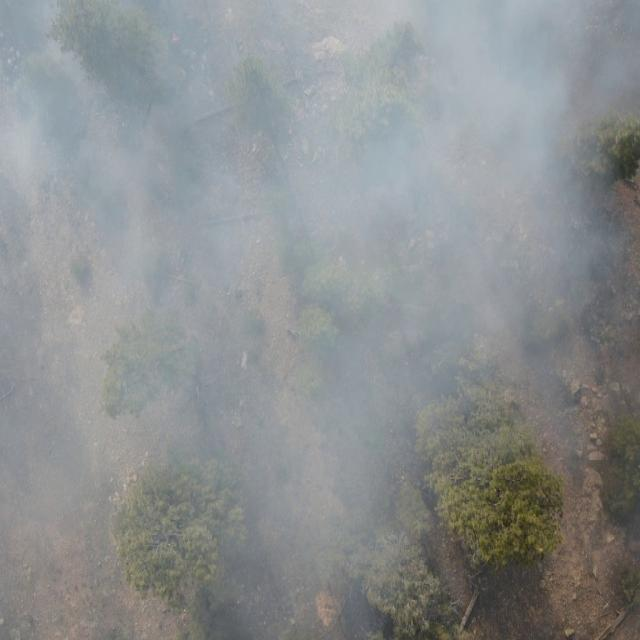fire: (170, 30, 181, 44)
smoke: (0, 0, 640, 495), (0, 495, 464, 640)
